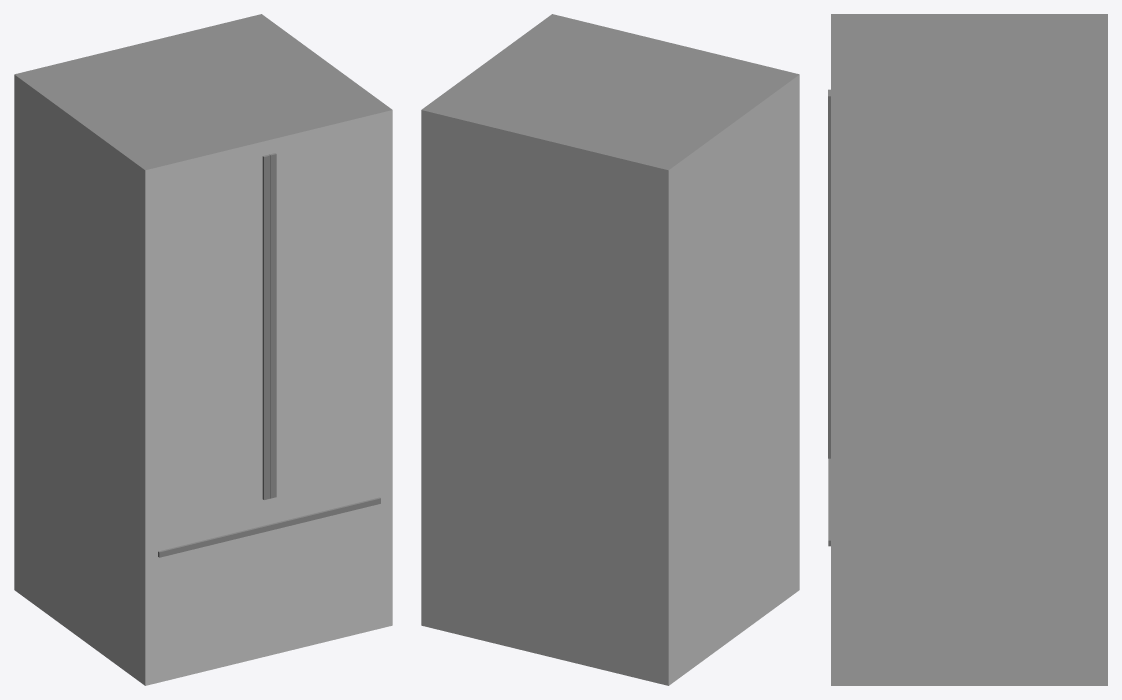
Rendered from refrigerator.FBX.
The picture shows the model from 3 angles, left to right: view 1: azimuth 30°, elevation 25°; view 2: azimuth 150°, elevation 25°; view 3: azimuth 270°, elevation 25°; orthographic projection. The views are drawn at different scales.
Visible parts, largest first — view 1: refrigerator; view 2: refrigerator; view 3: refrigerator.
Boxes of the visible parts, x1=… form: refrigerator: x1=14, y1=14, x2=392, y2=685; refrigerator: x1=421, y1=14, x2=799, y2=685; refrigerator: x1=828, y1=14, x2=1107, y2=685.
Size of the model in its own units: 12.63 by 25.15 by 11.71.
